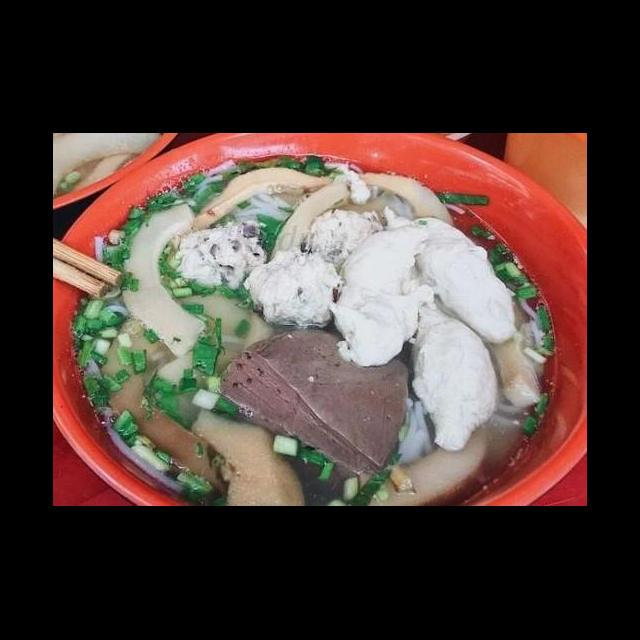bun: (188, 156, 295, 230)
vien moc: (243, 244, 347, 330), (170, 216, 267, 300), (300, 204, 385, 260)
